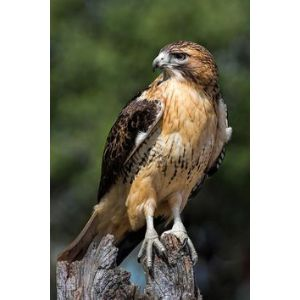hawk: (91, 40, 237, 275)
